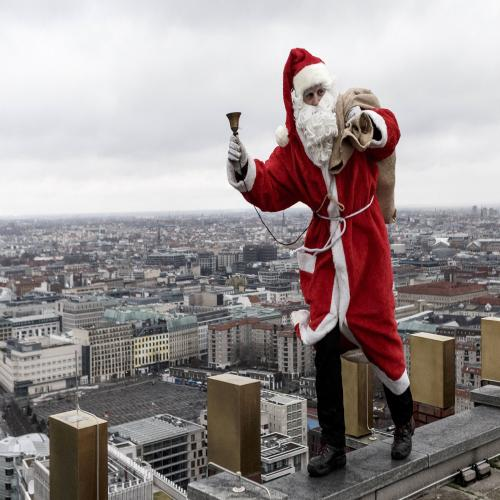Santa: (226, 48, 416, 477)
